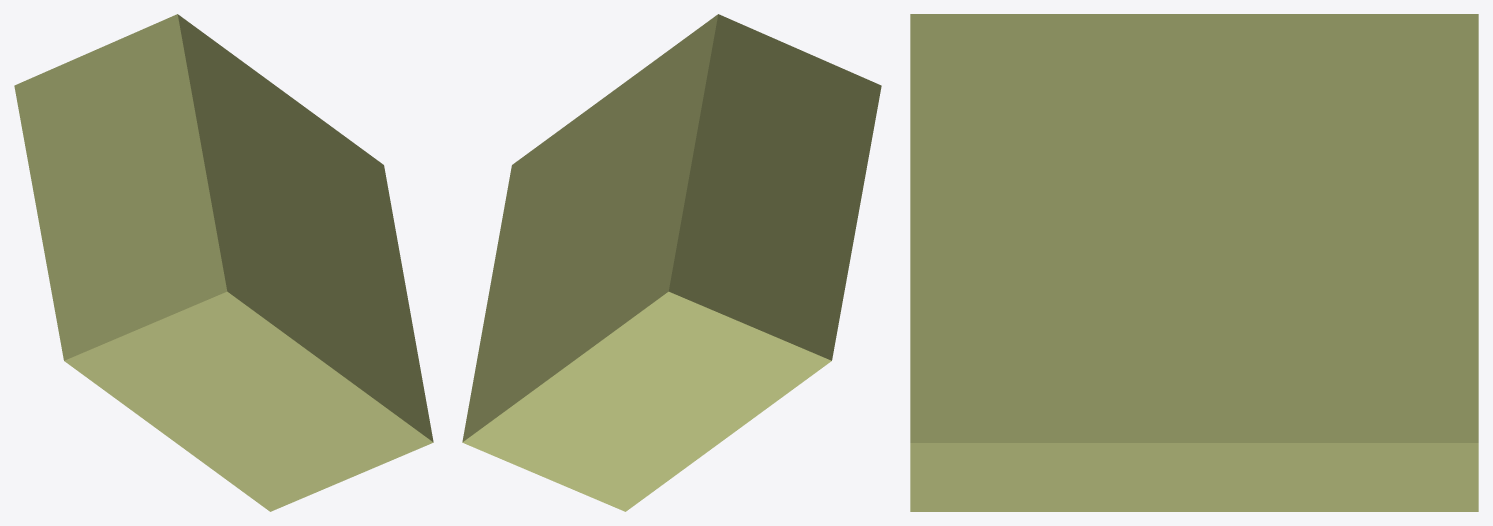
3 renders of one model, left to right at view 1: azimuth 30°, elevation 25°; view 2: azimuth 150°, elevation 25°; view 3: azimuth 270°, elevation 25°, orthographic. The views are drawn at different scales.
Visible parts, largest first — view 1: 0_1_2_0_3_3_0_3_2_2_2; view 2: 0_1_2_0_3_3_0_3_2_2_2; view 3: 0_1_2_0_3_3_0_3_2_2_2.
Part boxes in pixels (<box>): 0_1_2_0_3_3_0_3_2_2_2: <box>14,14,433,511</box>; 0_1_2_0_3_3_0_3_2_2_2: <box>462,14,881,511</box>; 0_1_2_0_3_3_0_3_2_2_2: <box>910,14,1478,511</box>.
Size of the model in its own units: 5.36 by 7.68 by 9.
